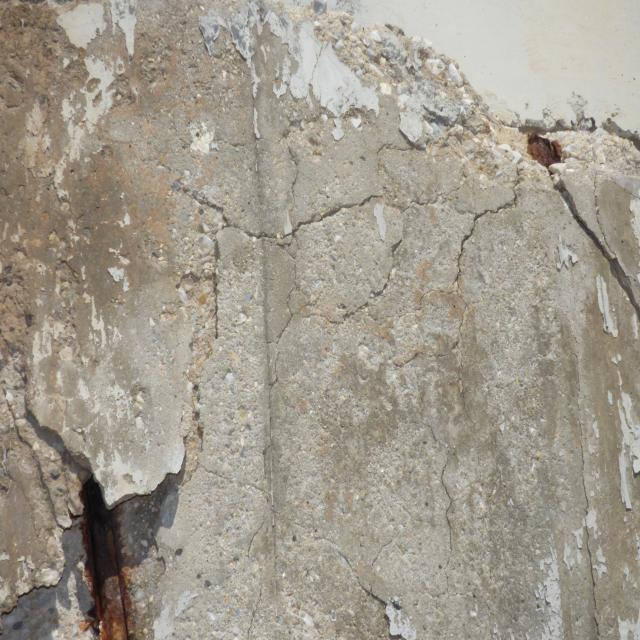corrosion: (67, 464, 156, 640), (516, 127, 578, 177)
